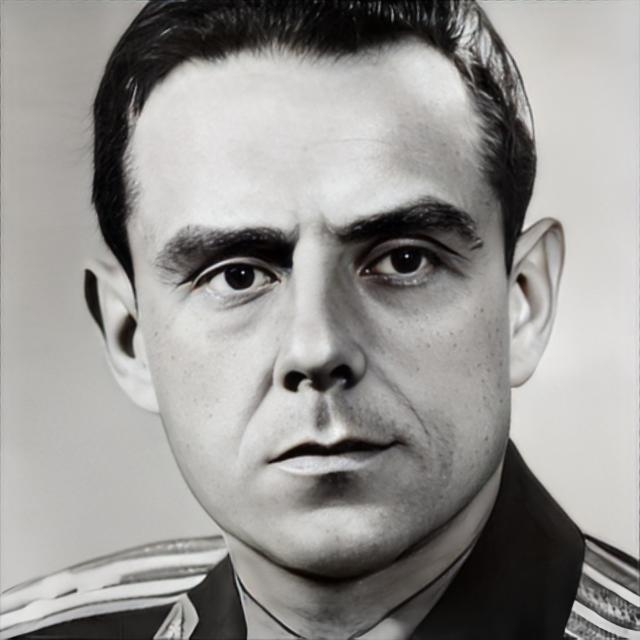anger: (140, 40, 514, 574)
